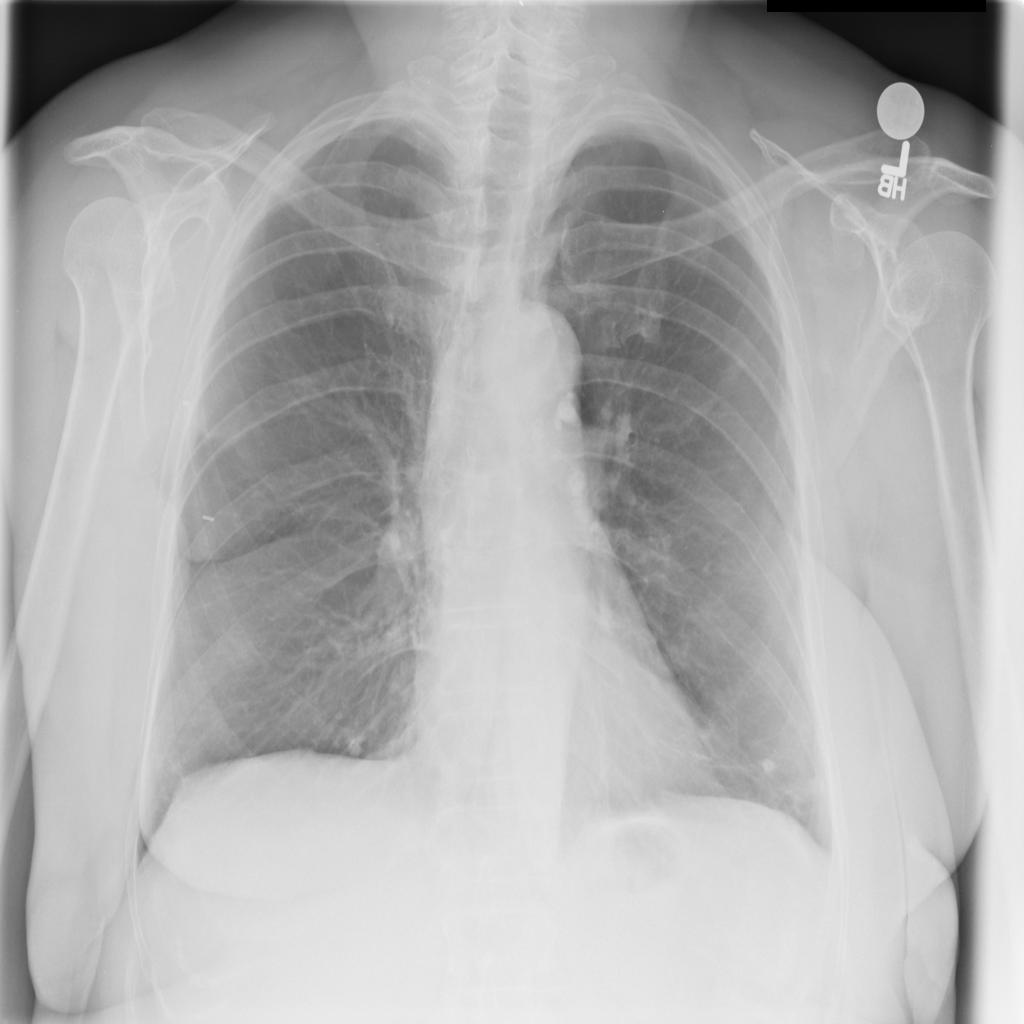nodule: (741, 738, 791, 791), (330, 714, 377, 766)
